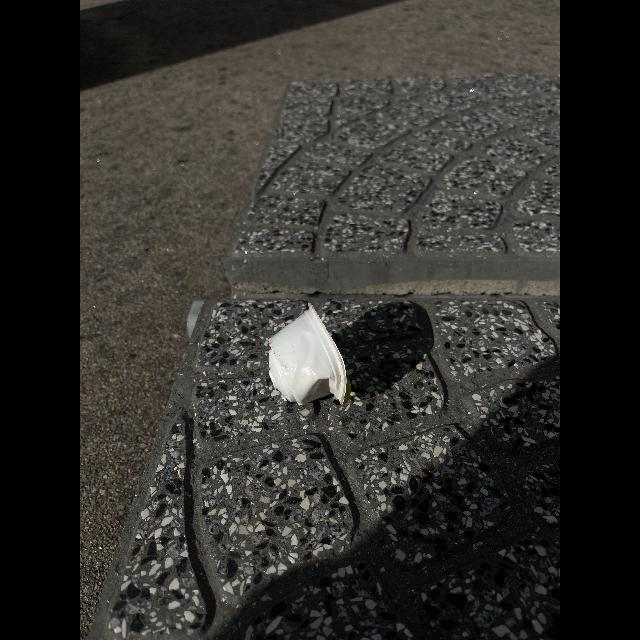damaged_capsule: (261, 296, 367, 418)
